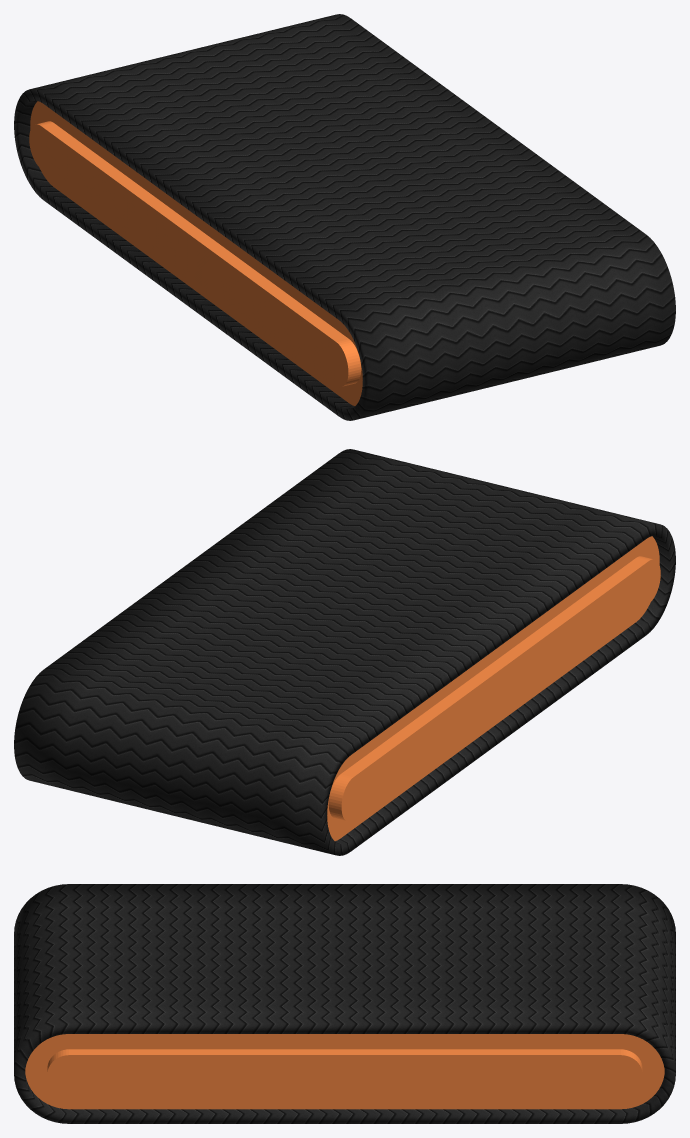
File: Conveyor-3x6.fbx
3 views of the same model, one above another, from view 1: azimuth 30°, elevation 25°; view 2: azimuth 150°, elevation 25°; view 3: azimuth 270°, elevation 25° (orthographic). The views are drawn at different scales.
Visible parts, largest first — view 1: Conveyor; view 2: Conveyor; view 3: Conveyor.
Boxes of the visible parts, x1=… form: Conveyor: x1=14, y1=14, x2=675, y2=420; Conveyor: x1=14, y1=449, x2=675, y2=855; Conveyor: x1=14, y1=884, x2=675, y2=1123.
Bounding box in the file's own units: 3.05 × 1 × 6.
2 materials, 1 textured.
